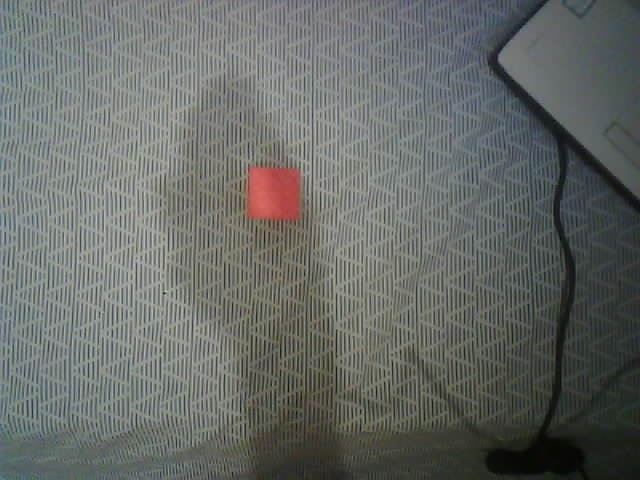lego: (245, 166, 302, 220)
